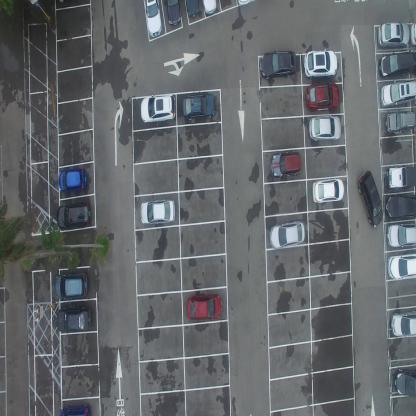car: (357, 167, 383, 228), (259, 50, 297, 81), (140, 92, 176, 124), (302, 48, 338, 80), (304, 82, 340, 113), (269, 219, 305, 250), (378, 51, 416, 80), (56, 304, 92, 334), (181, 92, 216, 122), (139, 198, 175, 226), (186, 294, 222, 321), (380, 82, 416, 108), (54, 273, 88, 300), (376, 21, 410, 48), (56, 202, 91, 228), (386, 252, 416, 282), (308, 116, 342, 142), (270, 150, 301, 178), (312, 177, 344, 204), (384, 194, 416, 221), (386, 164, 416, 190), (384, 110, 416, 134), (392, 366, 416, 398), (389, 309, 416, 337), (386, 223, 416, 248), (58, 168, 86, 194), (143, 0, 162, 38), (60, 400, 92, 416), (165, 0, 181, 28), (185, 0, 199, 22), (201, 0, 217, 18), (410, 18, 416, 48)
